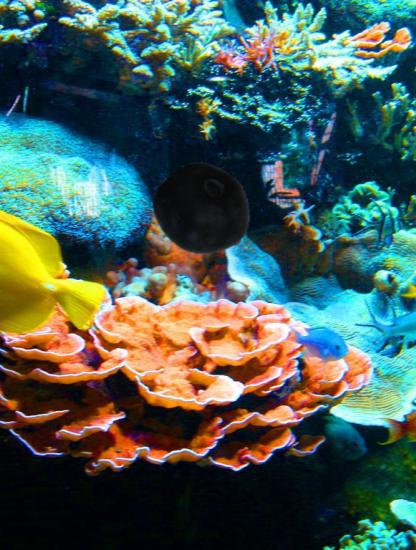Blueberry: (156, 162, 253, 259)
